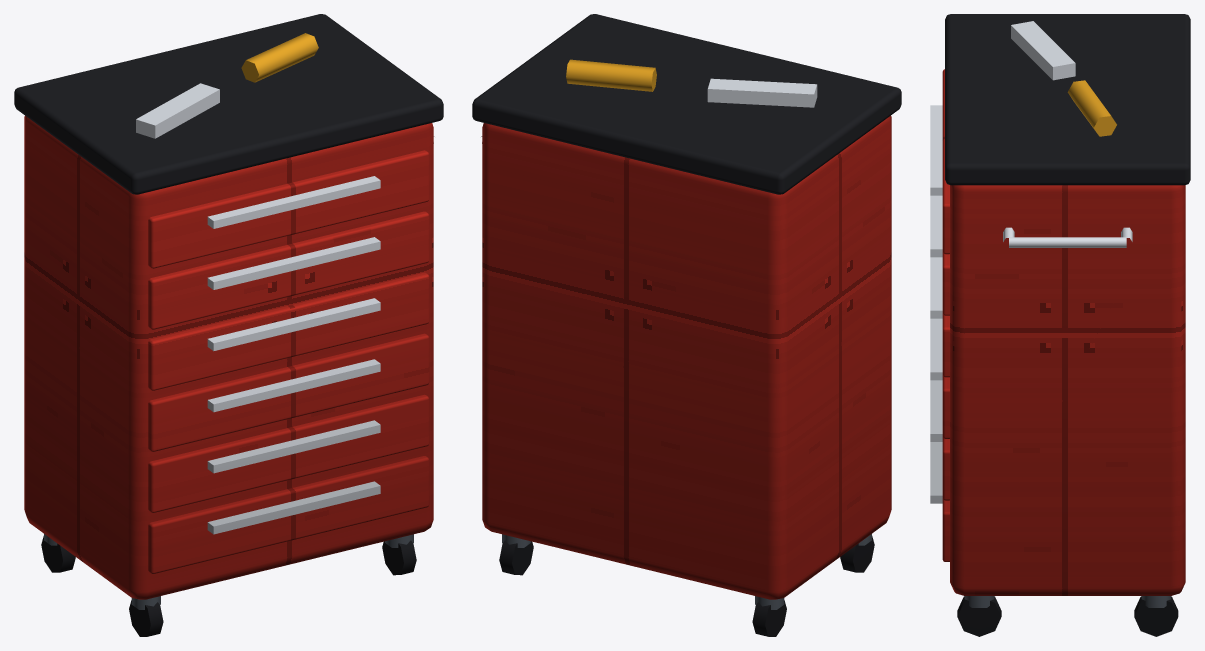
The model's file is caixa_de_ferramentas.glb.
3 renders of one model, left to right at view 1: azimuth 30°, elevation 25°; view 2: azimuth 150°, elevation 25°; view 3: azimuth 270°, elevation 25°, orthographic.
Parts seen in each view (by area): view 1: caixa_de_ferramentas_metal, caixa_de_ferramentas; view 2: caixa_de_ferramentas_metal, caixa_de_ferramentas; view 3: caixa_de_ferramentas_metal, caixa_de_ferramentas.
Part boxes in pixels (bbox=[...]): caixa_de_ferramentas_metal: bbox=[24, 115, 433, 599]; caixa_de_ferramentas: bbox=[14, 14, 443, 636]; caixa_de_ferramentas_metal: bbox=[482, 115, 891, 599]; caixa_de_ferramentas: bbox=[472, 14, 901, 636]; caixa_de_ferramentas_metal: bbox=[942, 69, 1185, 595]; caixa_de_ferramentas: bbox=[930, 14, 1190, 636].
Bounding box in the file's own units: 0.7904 × 1.13 × 0.53.
2 materials, 1 textured.
